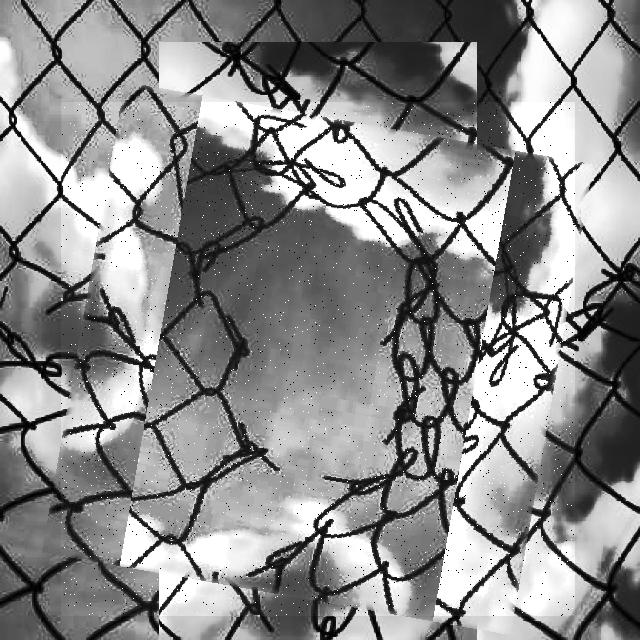anomaly-fence: (61, 102, 575, 616)
